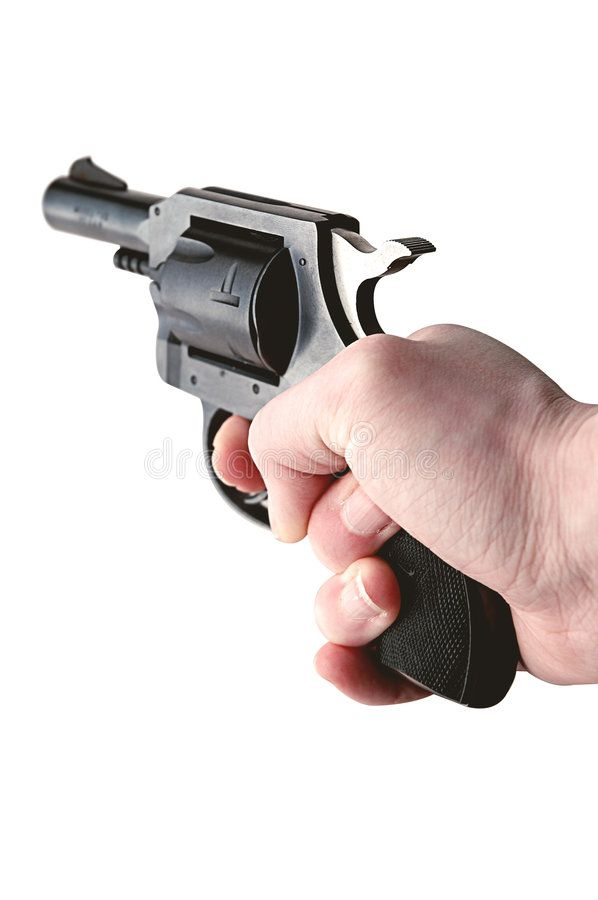gun: (39, 149, 539, 725)
